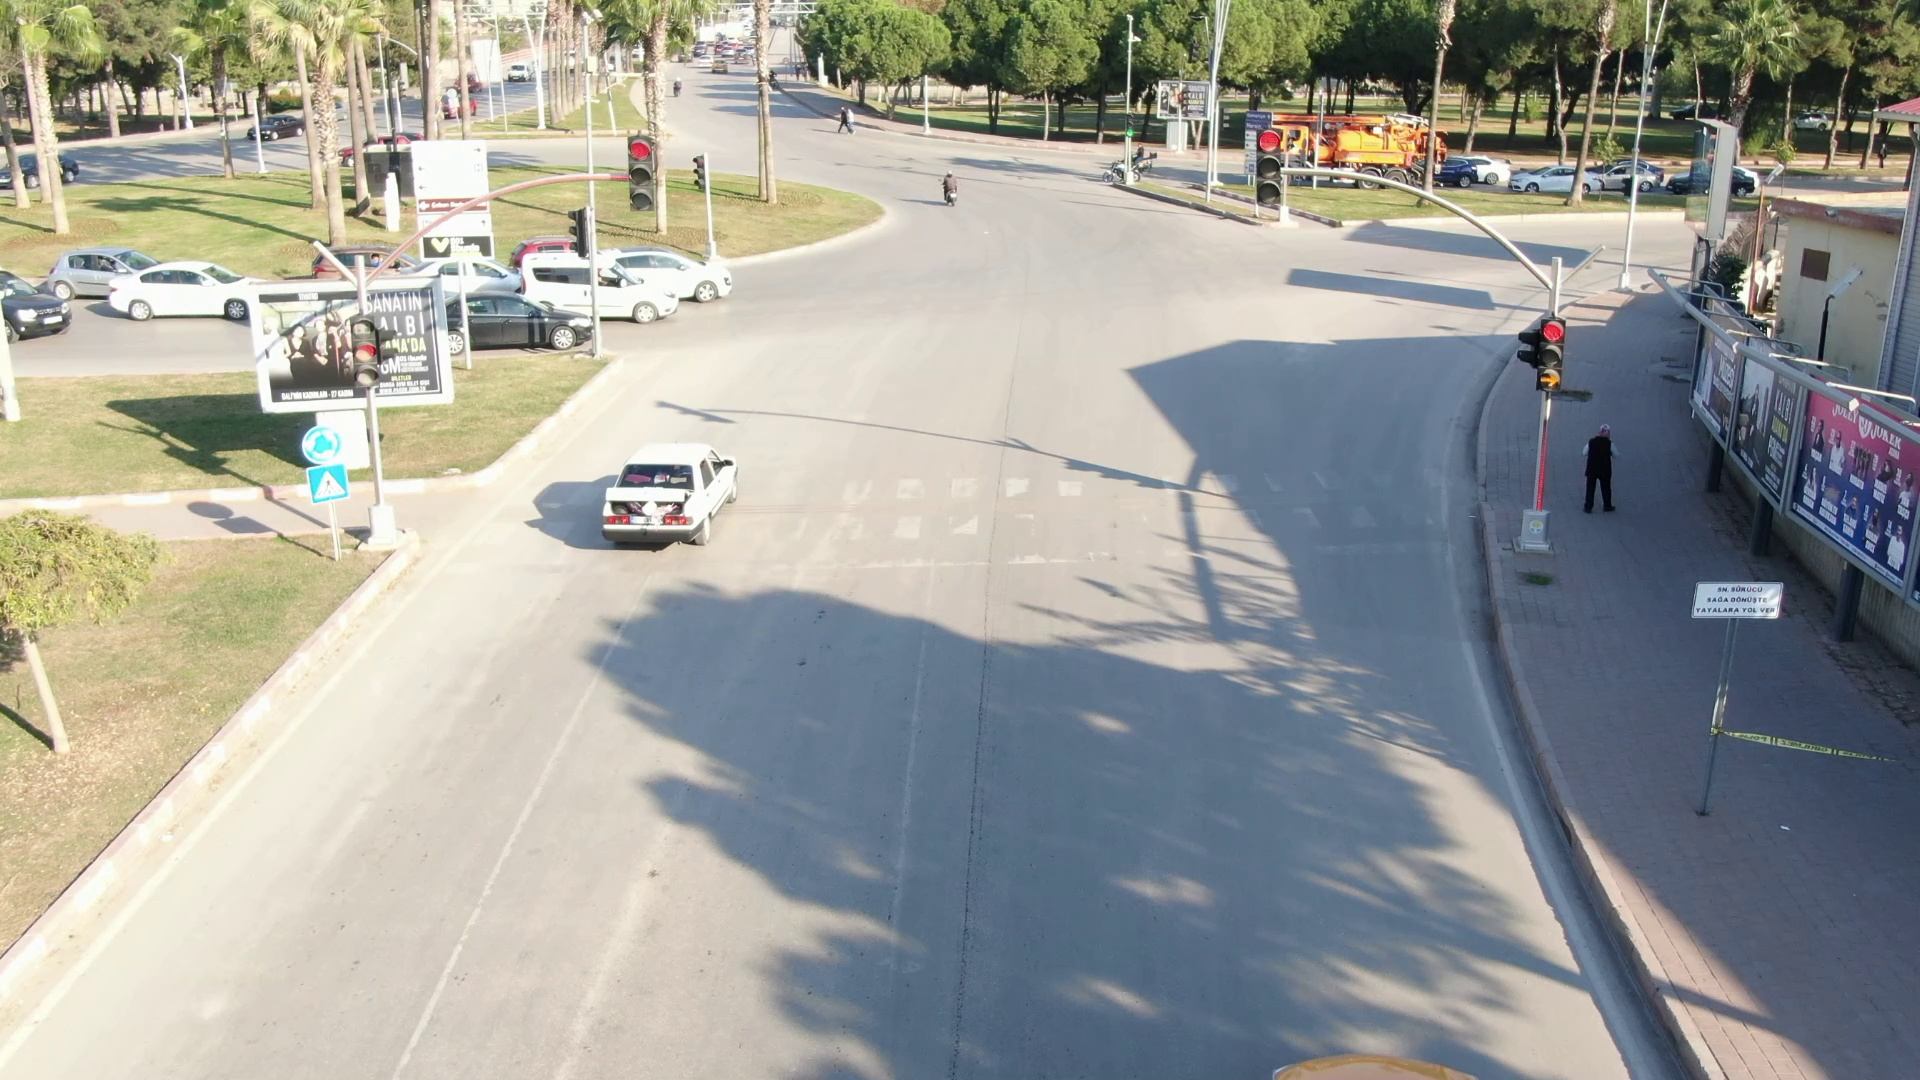car: (582, 427, 747, 561), (517, 249, 676, 321), (445, 286, 596, 353), (100, 261, 261, 323), (598, 241, 739, 306)
person: (1576, 425, 1629, 517), (921, 174, 965, 208)
